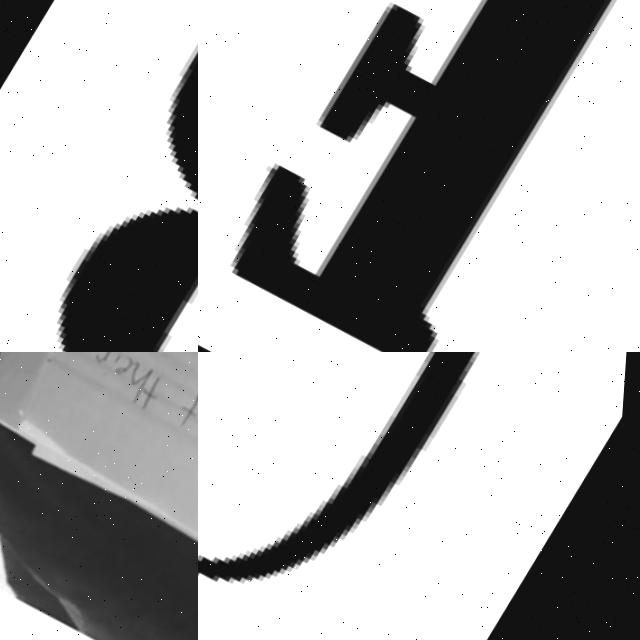0: (198, 352, 599, 640)
B: (62, 209, 198, 352)
E: (237, 0, 623, 352), (116, 357, 137, 381)
H: (119, 364, 157, 408)
I: (103, 355, 124, 383)
R: (95, 352, 115, 368)
T: (139, 379, 168, 415), (177, 393, 198, 431)
